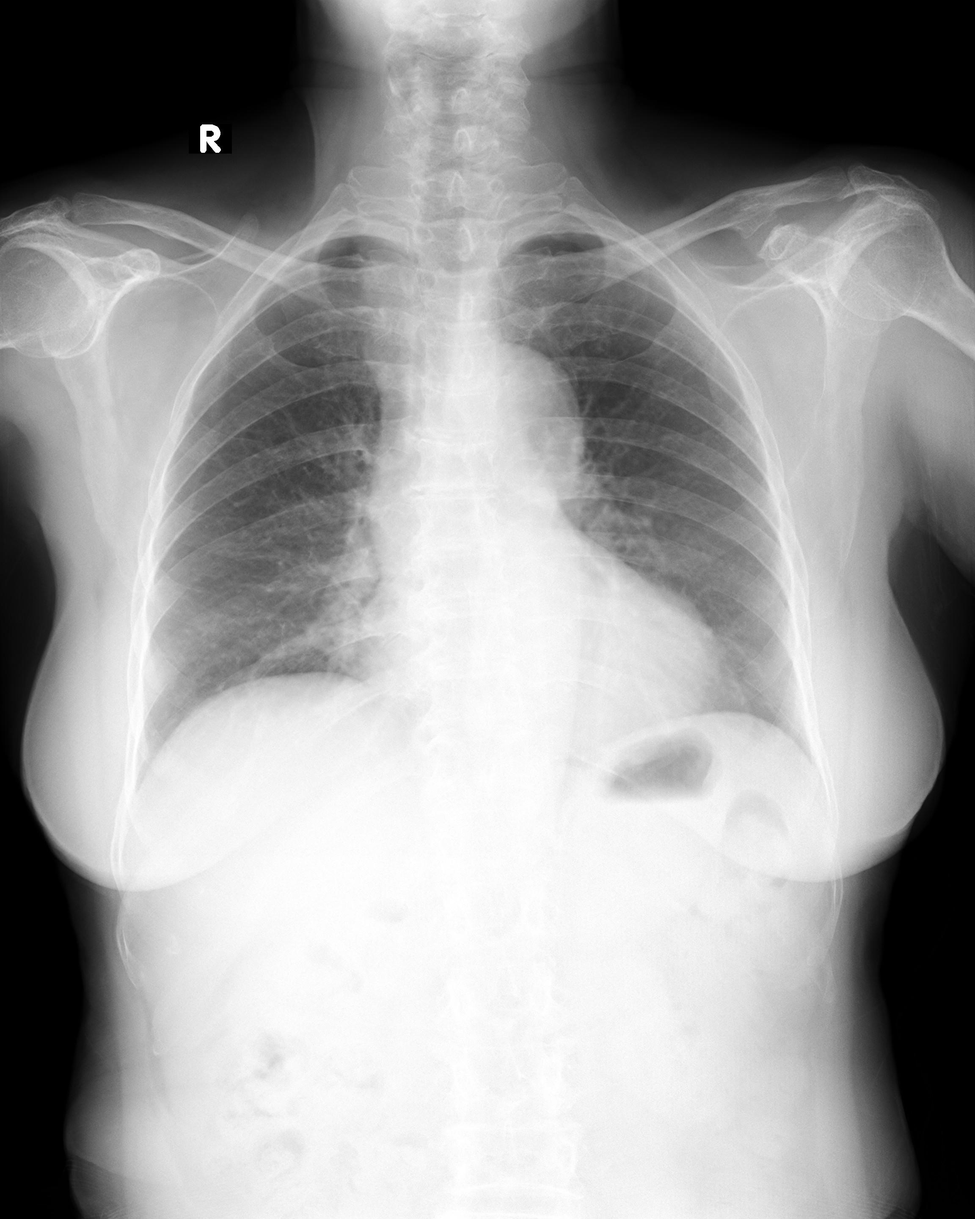Aortic enlargement: (455, 341, 589, 487)
Cardiomegaly: (355, 583, 722, 724)
